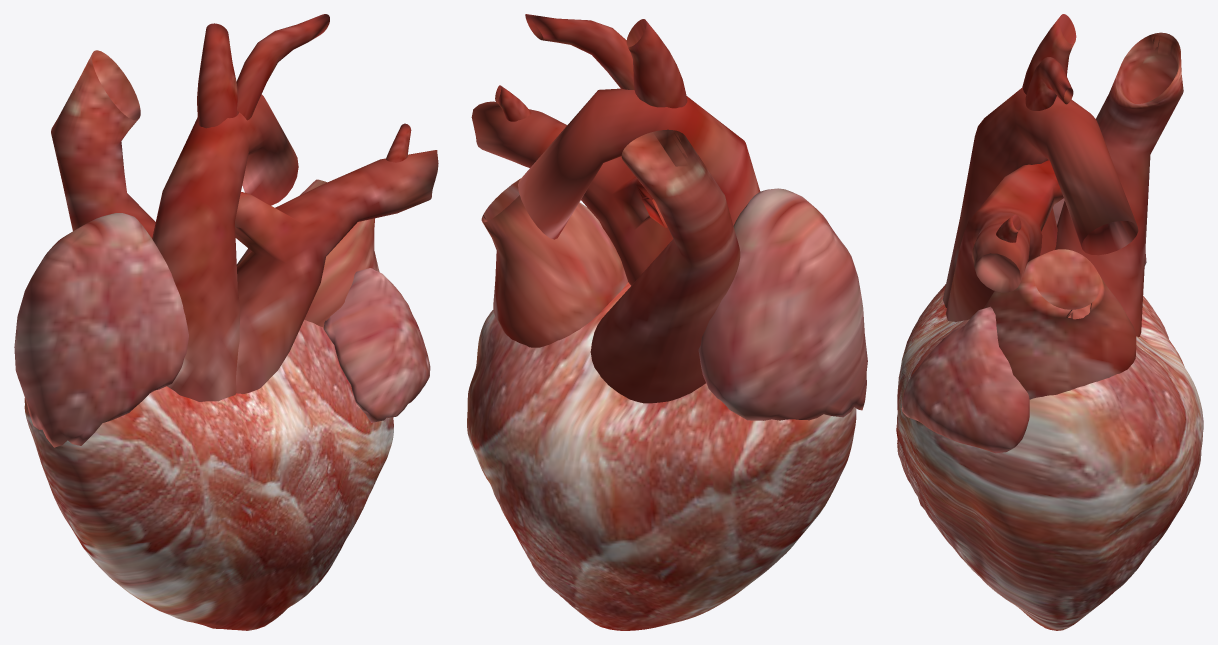
File: Heart.fbx
The picture shows the model from 3 angles, left to right: view 1: azimuth 30°, elevation 25°; view 2: azimuth 150°, elevation 25°; view 3: azimuth 270°, elevation 25°; orthographic projection. The views are drawn at different scales.
Visible parts, largest first — view 1: Hearth; view 2: Hearth; view 3: Hearth.
Boxes of the visible parts, box(x1,y1,x2,y2) form: Hearth: box(14, 14, 438, 630); Hearth: box(467, 14, 867, 630); Hearth: box(896, 14, 1203, 630).
Size of the model in its own units: 6.78 by 10.03 by 4.69.
1 material, 1 textured.
